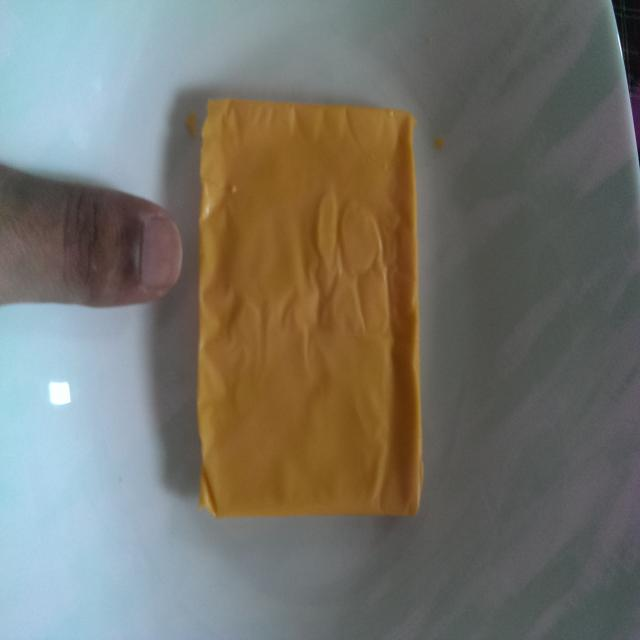cheese: (190, 95, 424, 515)
